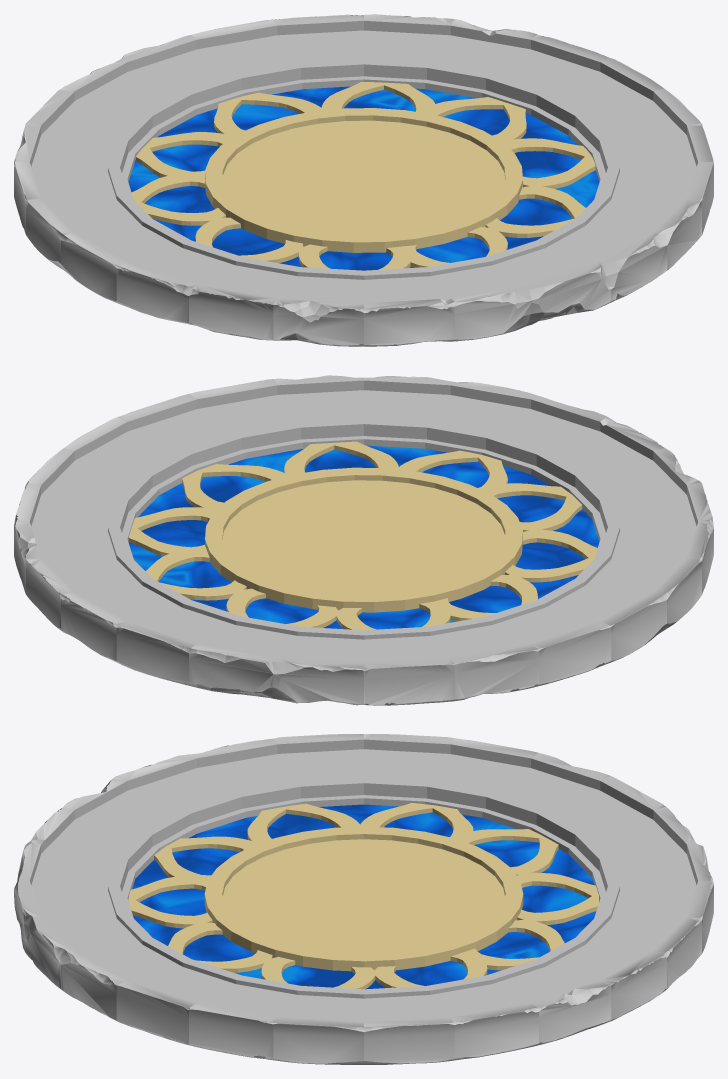
3 views of the same model, one above another, from view 1: azimuth 30°, elevation 25°; view 2: azimuth 150°, elevation 25°; view 3: azimuth 270°, elevation 25° (orthographic).
Parts seen in each view (by area): view 1: Cylinder.025_dmg; view 2: Cylinder.025_dmg; view 3: Cylinder.025_dmg.
Part boxes in pixels (left/top/right/bottom): Cylinder.025_dmg: left=14, top=14, right=713, bottom=346; Cylinder.025_dmg: left=14, top=375, right=713, bottom=705; Cylinder.025_dmg: left=14, top=734, right=713, bottom=1064.
Bounding box in the file's own units: 702 × 43.31 × 702.
